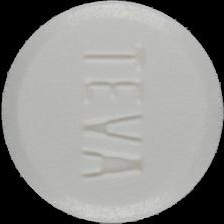53808-0260: (0, 0, 224, 224)
